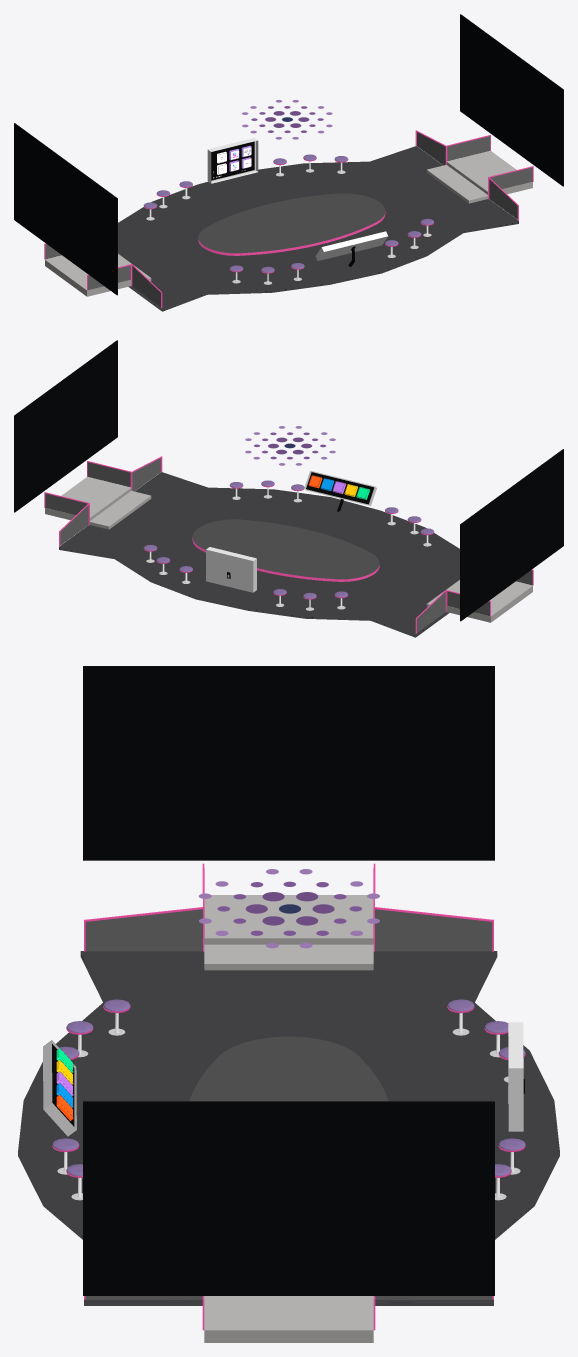
File: partyMode2.glb
3 views of the same model, one above another, from view 1: azimuth 30°, elevation 25°; view 2: azimuth 150°, elevation 25°; view 3: azimuth 270°, elevation 25° (orthographic). The views are drawn at different scales.
Parts seen in each view (by area): view 1: p05_floor_001, p05_tv_002, p05_tv_001.001, p05_glass_floor.001, p05_stairs_001, p05_railing_001.001, p05_railing_002.001, p05_buttons_01, p05_bar_chair_001, p05_Ringbuttons, p05_logo_MRCgroup_001, p05_buttons_02 (+2 smaller); view 2: p05_floor_001, p05_tv_002, p05_tv_001.001, p05_glass_floor.001, p05_stairs_001, p05_buttons_02, p05_railing_001.001, p05_railing_002.001, p05_buttons.001, p05_bar_chair_001, p05_logo_MRCgroup_001, p05_bar_chair_002 (+1 smaller); view 3: p05_tv_001.001, p05_tv_002, p05_floor_001, p05_stairs_001, p05_glass_floor.001, p05_railing_002.001, p05_logo_MRCgroup_001, p05_bar_chair_001, p05_buttons_02, p05_buttons.001, p05_Ringbuttons, p05_bar_chair_002 (+1 smaller).
Part boxes in pixels (x1,y1,x2,y2): p05_floor_001: [118, 146, 518, 311]; p05_tv_002: [460, 14, 563, 186]; p05_tv_001.001: [14, 123, 117, 295]; p05_glass_floor.001: [198, 193, 385, 255]; p05_stairs_001: [45, 151, 532, 296]; p05_railing_001.001: [45, 136, 532, 290]; p05_railing_002.001: [132, 132, 517, 306]; p05_buttons_01: [211, 141, 254, 180]; p05_bar_chair_001: [143, 154, 434, 273]; p05_Ringbuttons: [315, 231, 388, 260]; p05_logo_MRCgroup_001: [242, 100, 332, 139]; p05_buttons_02: [207, 138, 258, 183]; p05_floor_001: [59, 472, 459, 637]; p05_tv_002: [14, 340, 117, 512]; p05_tv_001.001: [460, 449, 563, 621]; p05_glass_floor.001: [192, 519, 379, 581]; p05_stairs_001: [45, 477, 532, 622]; p05_buttons_02: [206, 547, 256, 592]; p05_railing_001.001: [45, 462, 532, 616]; p05_railing_002.001: [60, 458, 445, 632]; p05_buttons.001: [306, 472, 373, 511]; p05_bar_chair_001: [143, 480, 434, 599]; p05_logo_MRCgroup_001: [245, 426, 335, 465]; p05_bar_chair_002: [146, 487, 431, 610]; p05_tv_001.001: [83, 666, 494, 860]; p05_tv_002: [83, 1101, 494, 1295]; p05_floor_001: [18, 951, 559, 1305]; p05_stairs_001: [204, 895, 373, 1342]; p05_glass_floor.001: [189, 1036, 388, 1101]; p05_railing_002.001: [85, 909, 492, 1299]; p05_logo_MRCgroup_001: [198, 869, 379, 948]; p05_bar_chair_001: [52, 999, 525, 1177]; p05_buttons_02: [508, 1022, 523, 1131]; p05_buttons.001: [52, 1044, 74, 1126]; p05_Ringbuttons: [43, 1040, 76, 1136]; p05_bar_chair_002: [57, 1013, 520, 1200].
Size of what is drawn, in the model's own units: 28.16 by 7.44 by 14.78.
8 materials, 8 textured.
